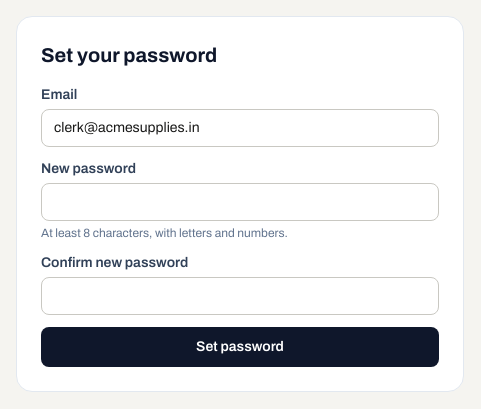
Test case: Round two: payments, invitations, credit notes and cart safety › sets a password from an invitation link
Check: the field labelled "Email" holds "clerk@acmesupplies.in", box [41,109,439,147]
Type "Warehouse2026" into the password field labelled "New password". click: (240, 202)
box: [41,183,439,221]
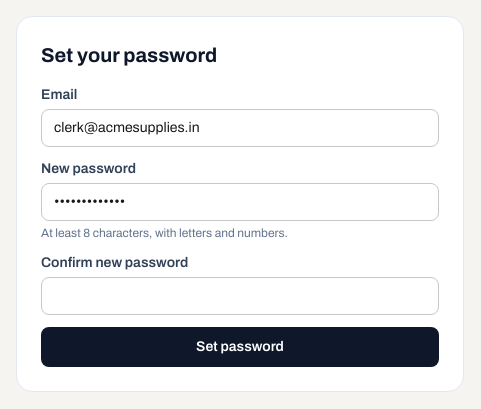
Type "Warehouse2026" into the password field labelled "Confirm new password". click: (240, 296)
box: [41,277,439,315]
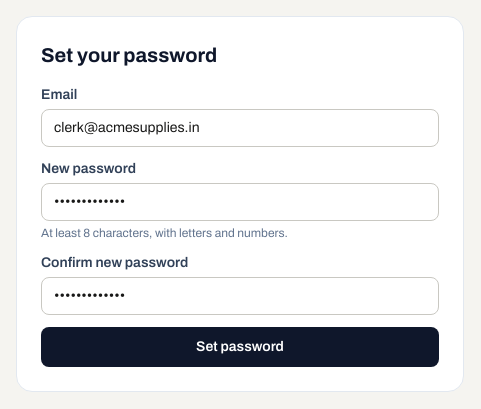
Click the button "Set password". click: (240, 347)
box: [41,327,439,367]
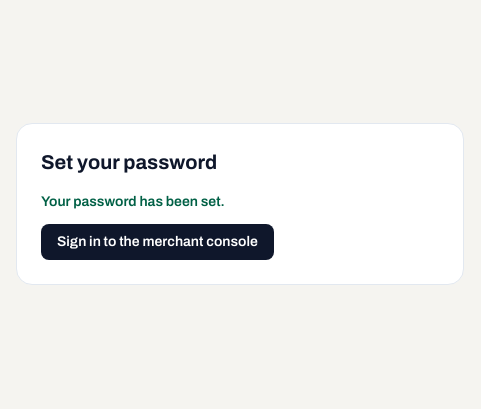
Check: the text "Your password has been set." is shown, box [41,194,225,209]
